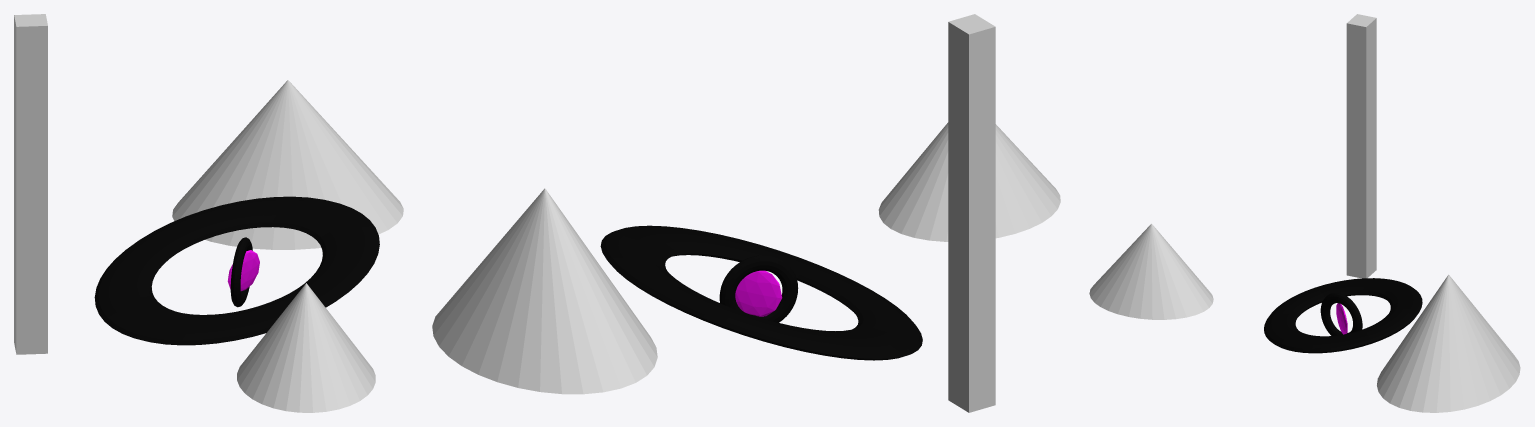
The model's file is DemoAnimtation.glb.
3 views of the same model, side by side, from view 1: azimuth 30°, elevation 25°; view 2: azimuth 150°, elevation 25°; view 3: azimuth 270°, elevation 25° (orthographic). The views are drawn at different scales.
Visible parts, largest first — view 1: Torus.002, Cone, Cube, Cone.001, Torus, Icosphere; view 2: Cone, Cube, Torus.002, Cone.001, Torus, Icosphere; view 3: Cone, Cube, Cone.001, Torus.002, Torus.
Boxes of the visible parts, <box> form: Torus.002: <box>94,196,379,345</box>; Cone: <box>172,80,403,249</box>; Cube: <box>14,14,47,354</box>; Cone.001: <box>237,283,375,412</box>; Torus: <box>230,237,252,307</box>; Icosphere: <box>227,250,259,291</box>; Cone: <box>432,188,657,394</box>; Cube: <box>948,14,995,412</box>; Torus.002: <box>600,225,922,360</box>; Cone.001: <box>878,122,1060,241</box>; Torus: <box>719,255,798,322</box>; Icosphere: <box>735,270,782,316</box>; Cone: <box>1377,274,1520,412</box>; Cube: <box>1346,14,1376,278</box>; Cone.001: <box>1089,223,1213,319</box>; Torus.002: <box>1264,278,1422,353</box>; Torus: <box>1320,293,1362,335</box>.
Bounding box in the file's own units: 176 × 129 × 200.
